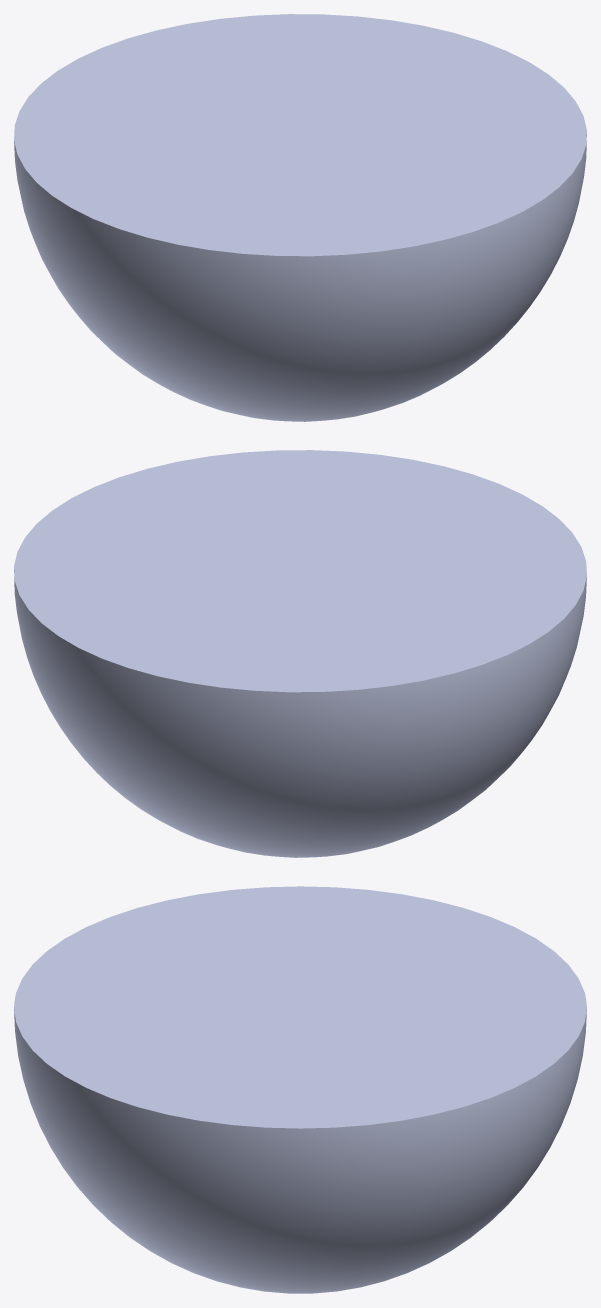
File: no_led.dae
3 renders of one model, top to bottom at view 1: azimuth 30°, elevation 25°; view 2: azimuth 150°, elevation 25°; view 3: azimuth 270°, elevation 25°, orthographic.
Visible parts, largest first — view 1: Body_1; view 2: Body_1; view 3: Body_1.
Boxes of the visible parts, bbox=[...] form: Body_1: bbox=[14, 14, 586, 421]; Body_1: bbox=[14, 450, 586, 857]; Body_1: bbox=[14, 886, 586, 1293].
Bounding box in the file's own units: 0.0419 × 0.0419 × 0.0209.
